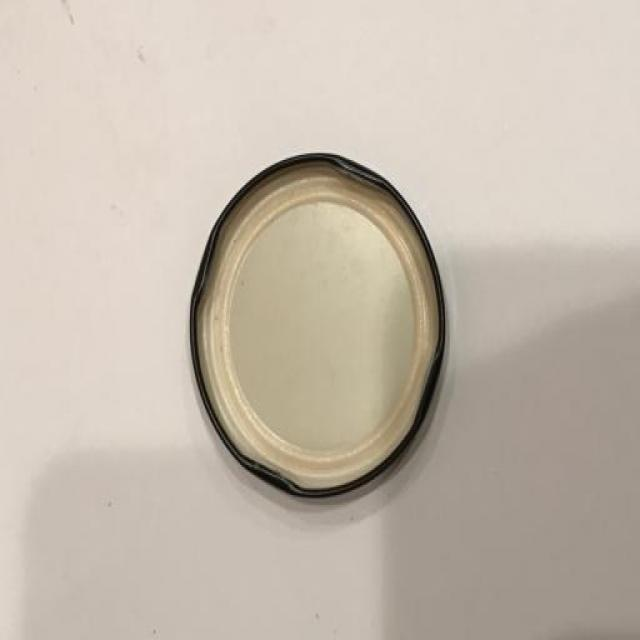metel: (152, 148, 537, 529)
